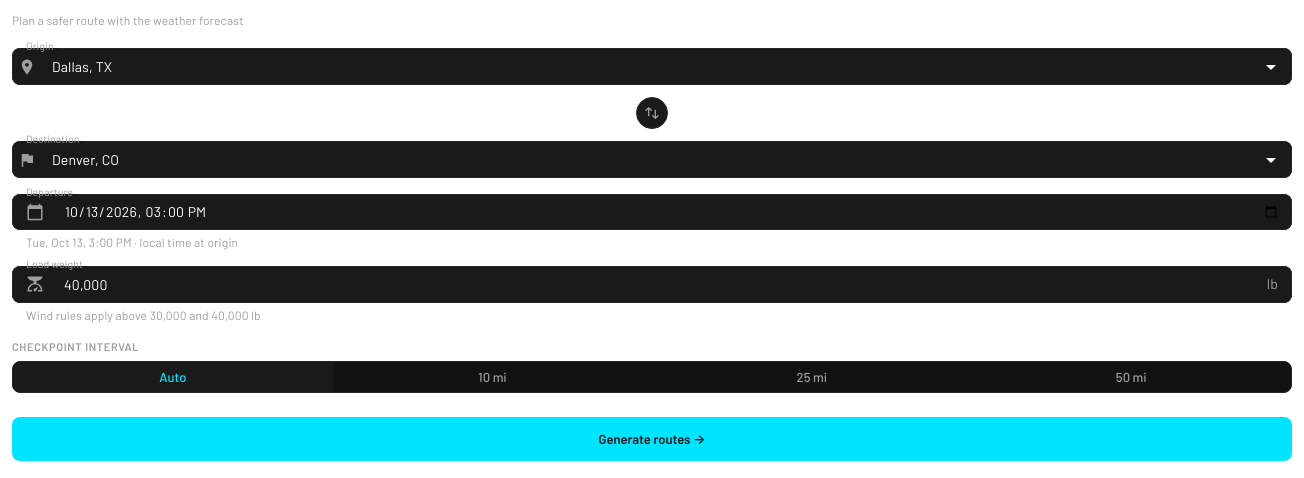
it: TripForm Component › swaps origin and destination when swap button is clicked
Check: the dropdown labelled "Origin" holds "Dallas, TX", box [44,54,1227,79]
Check: the dropdown labelled "Destination" holds "Denver, CO", box [44,147,1227,172]
# Click swap
Click the button with test id "swap-places-button" at (652, 113), box [636,97,668,129]
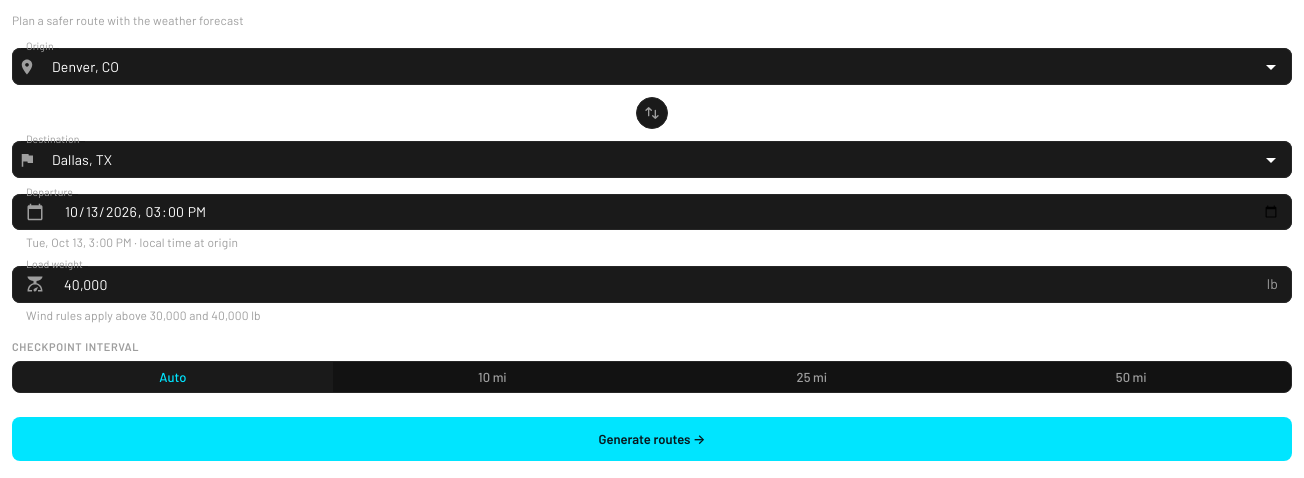
Check: the dropdown labelled "Origin" holds "Denver, CO", box [44,54,1227,79]
Check: the dropdown labelled "Destination" holds "Dallas, TX", box [44,147,1227,172]
